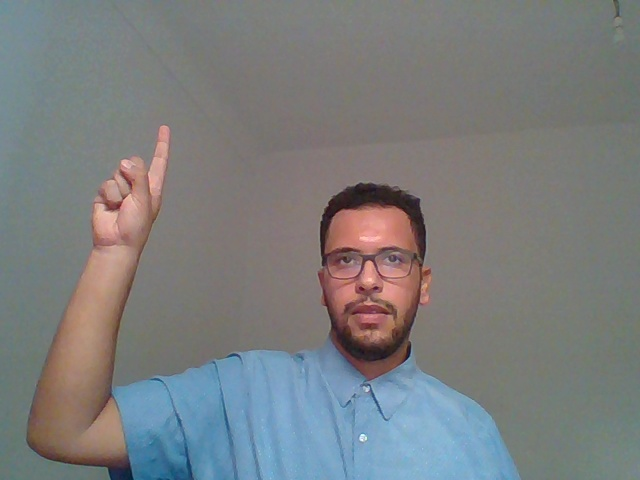handup: (53, 92, 188, 384)
